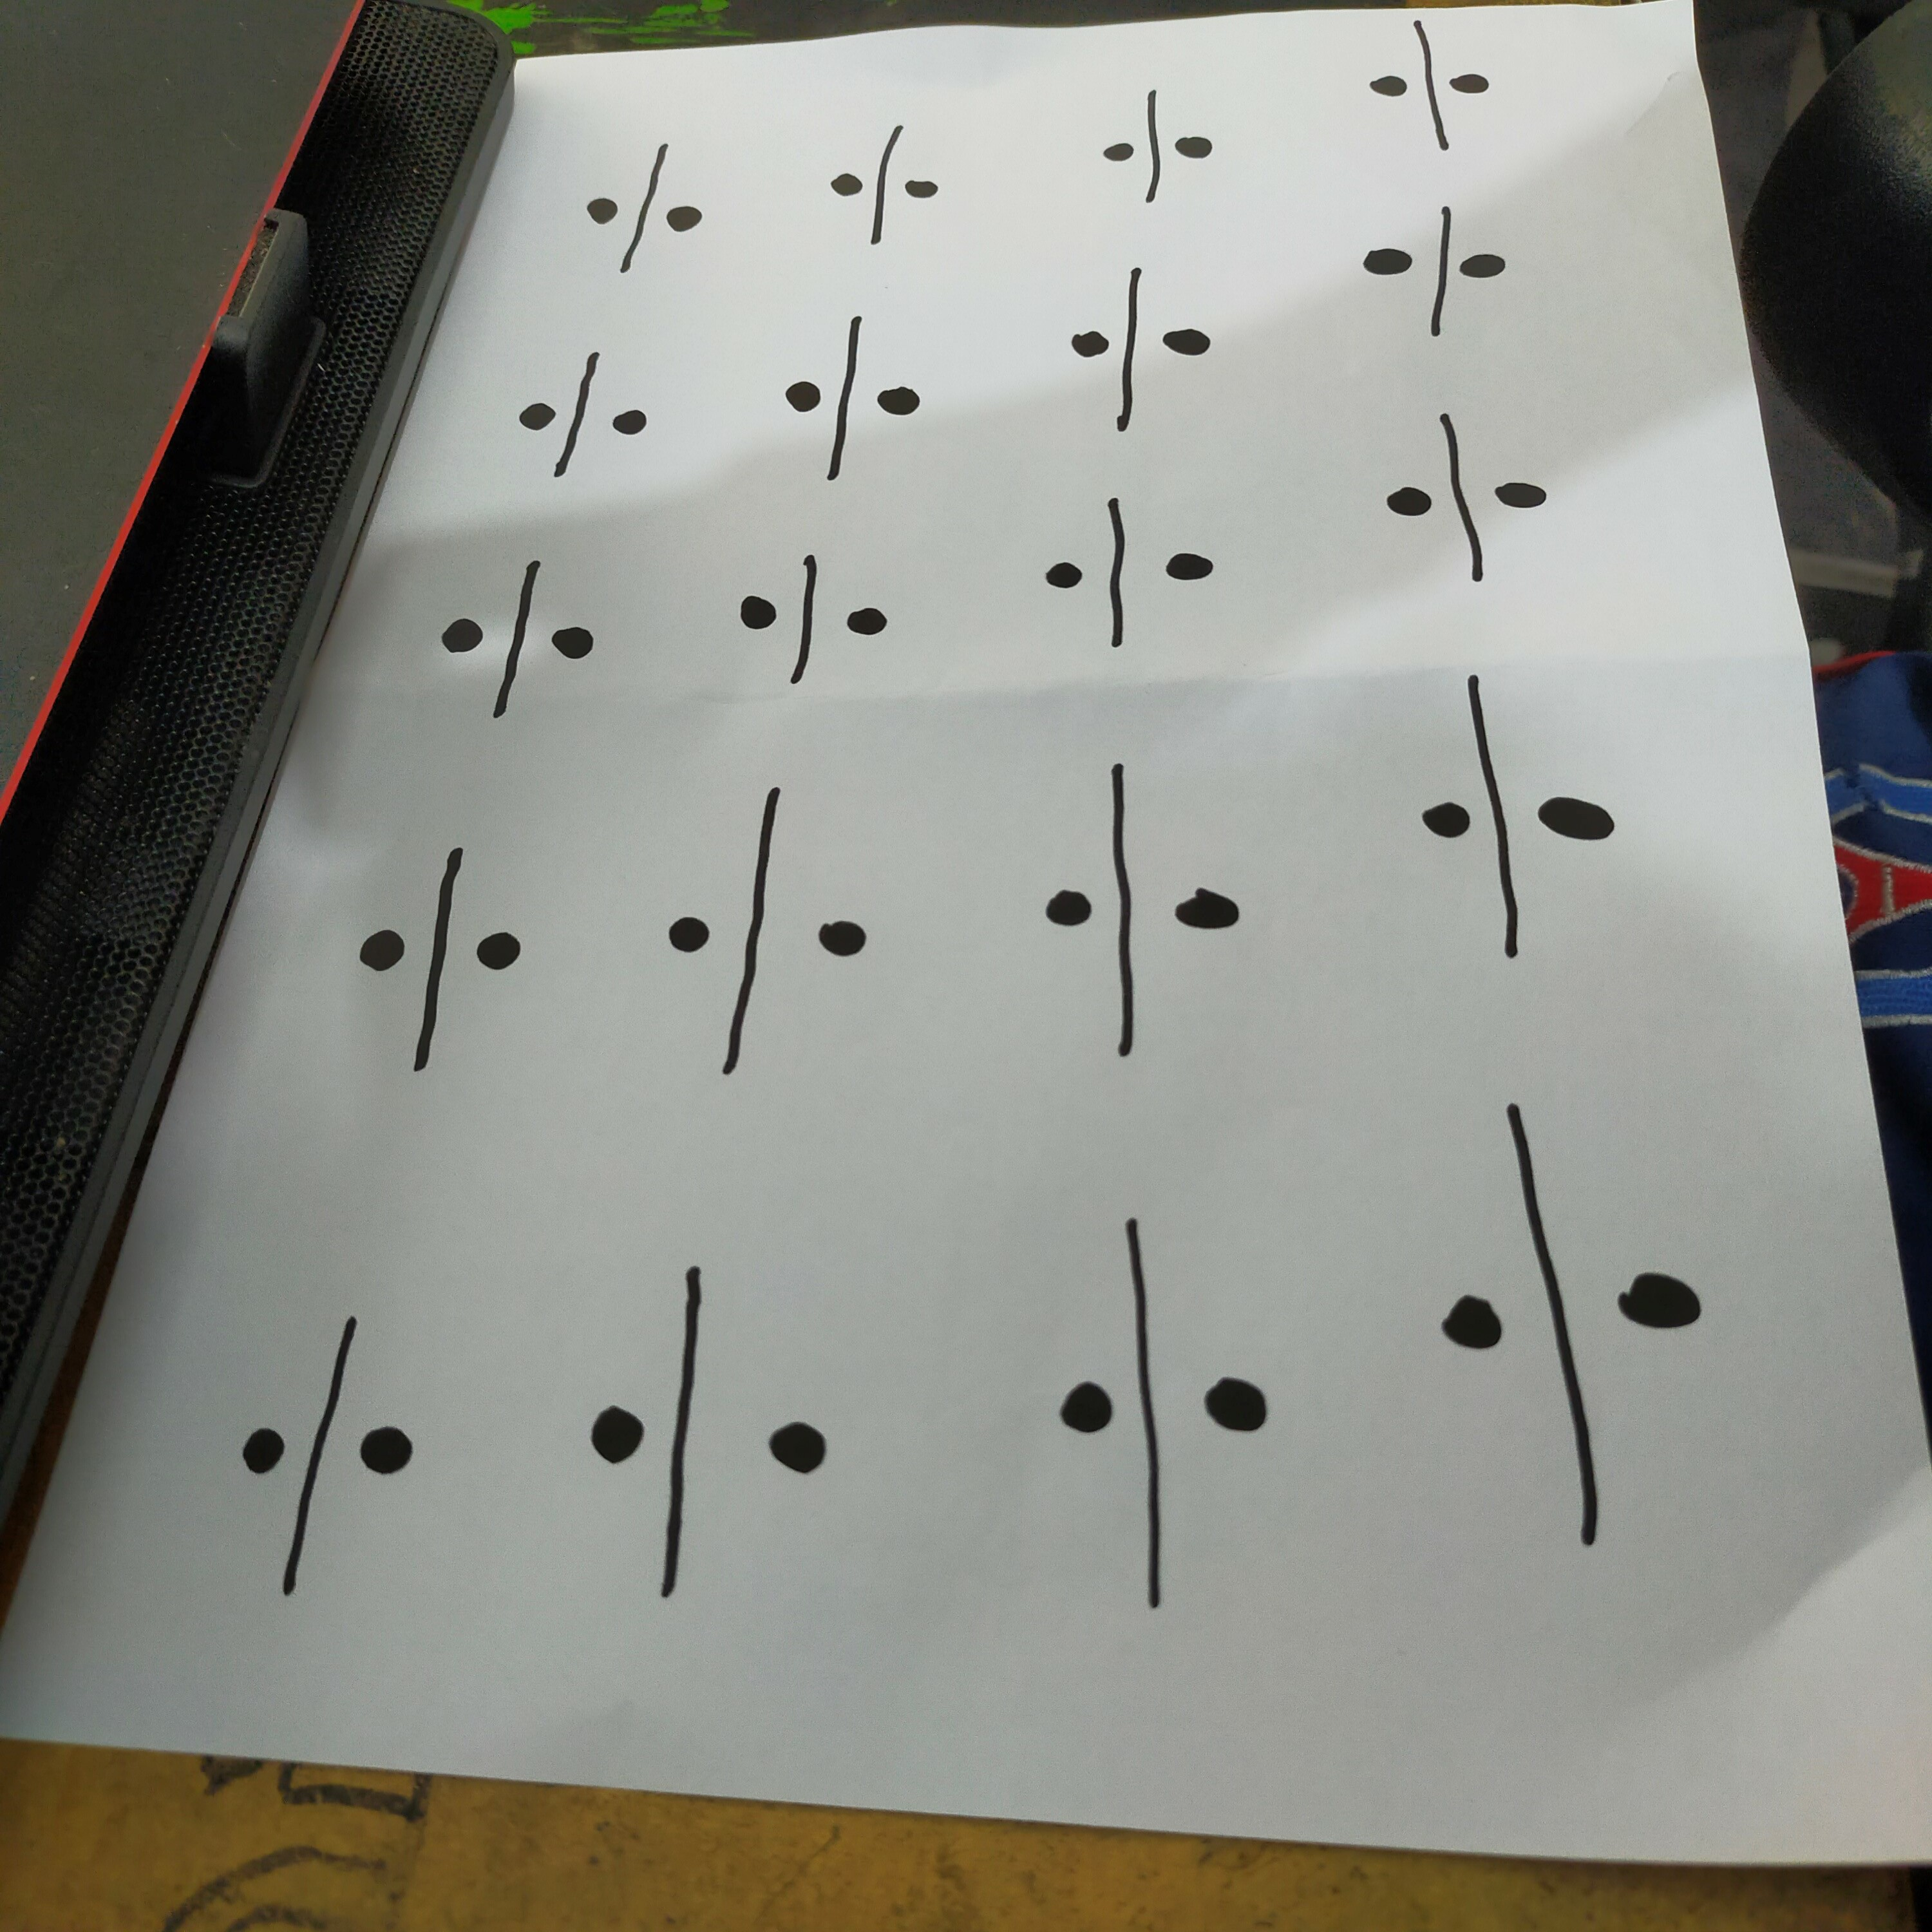div: (384, 1428, 849, 1709), (304, 1037, 747, 1285), (325, 571, 696, 858), (844, 655, 1169, 893), (312, 220, 639, 440), (876, 1036, 1196, 1260), (946, 1412, 1282, 1627), (849, 341, 1106, 544), (1334, 1373, 1541, 1564), (1200, 423, 1387, 614), (1488, 1053, 1694, 1221), (1446, 768, 1631, 944), (1283, 1034, 1450, 1229), (1235, 727, 1397, 907), (1578, 1356, 1742, 1529), (1436, 501, 1590, 671), (1645, 575, 1799, 731), (1770, 1359, 1920, 1510), (1713, 1096, 1863, 1238), (1680, 823, 1813, 956)
